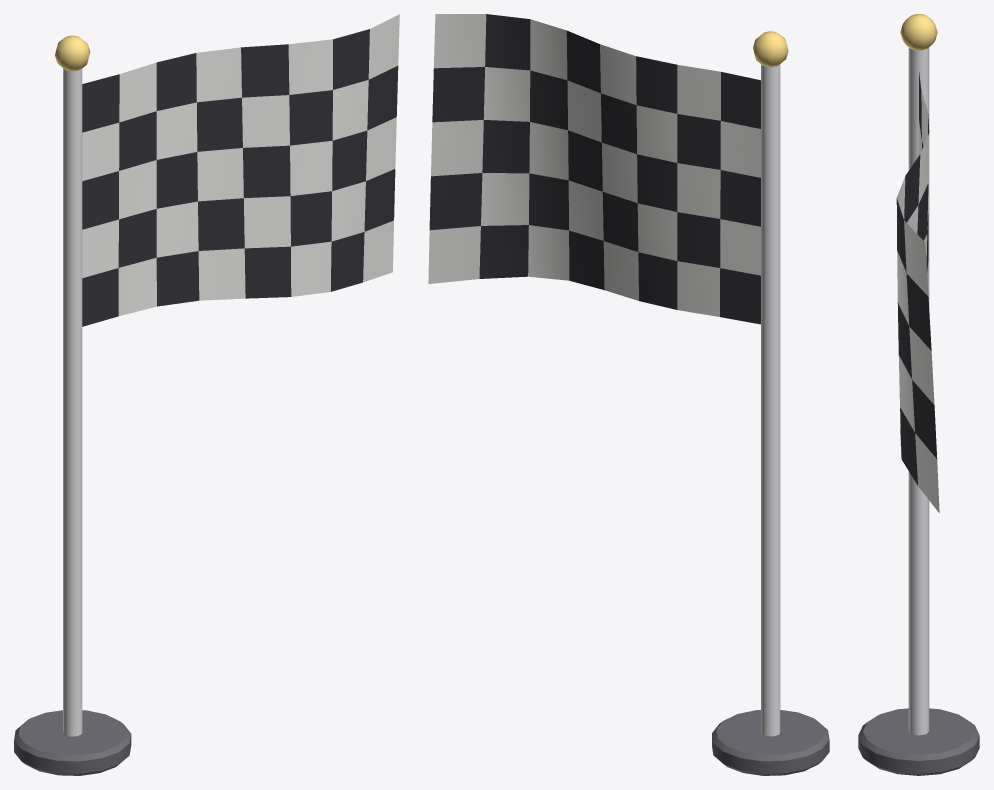
The model's file is flag_chequered.glb.
The picture shows the model from 3 angles, left to right: view 1: azimuth 30°, elevation 25°; view 2: azimuth 150°, elevation 25°; view 3: azimuth 270°, elevation 25°; orthographic projection. The views are drawn at different scales.
Visible parts, largest first — view 1: cloth, flag_chequered; view 2: cloth, flag_chequered; view 3: flag_chequered, cloth.
Boxes of the visible parts, bbox=[...] form: cloth: bbox=[82, 14, 399, 326]; flag_chequered: bbox=[14, 35, 131, 775]; cloth: bbox=[428, 14, 760, 324]; flag_chequered: bbox=[712, 31, 829, 775]; flag_chequered: bbox=[858, 14, 979, 775]; cloth: bbox=[896, 72, 939, 513].
Bounding box in the file's own units: 0.97 × 1.74 × 0.26.
